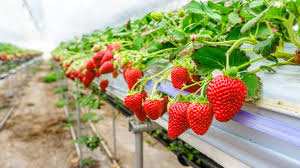ripe: (205, 74, 246, 122), (166, 98, 194, 140), (186, 97, 213, 136), (169, 63, 194, 88), (132, 98, 151, 125), (123, 92, 144, 113), (144, 97, 162, 119), (124, 68, 141, 90), (99, 48, 115, 61), (100, 61, 115, 74), (80, 73, 94, 86), (85, 59, 97, 72)
